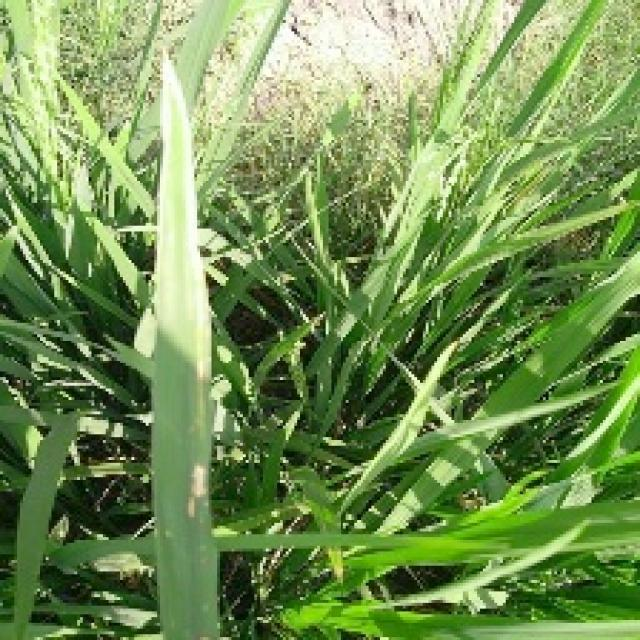Unhealthy: (187, 354, 206, 439), (191, 463, 207, 499), (328, 549, 342, 588), (185, 496, 197, 521)
